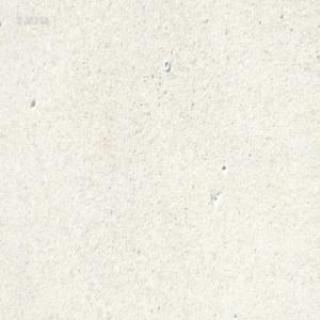Washertrack_idkeyframe: (162, 59, 170, 71)
